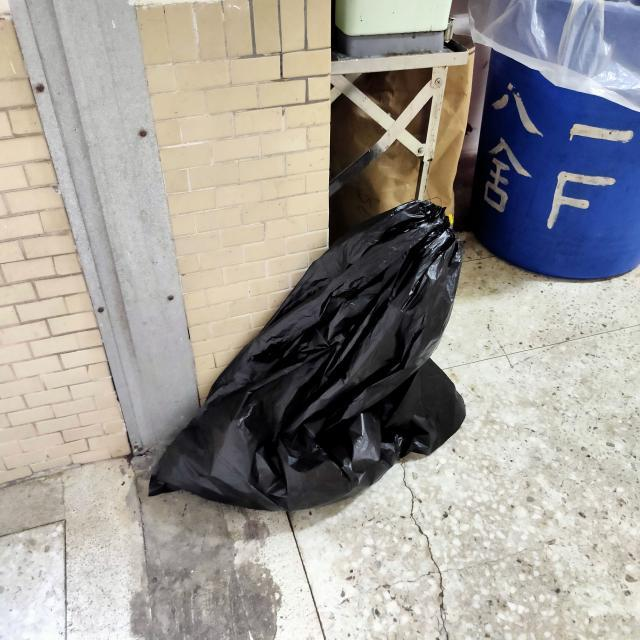Vinyl: (134, 158, 477, 521), (211, 186, 477, 538)
